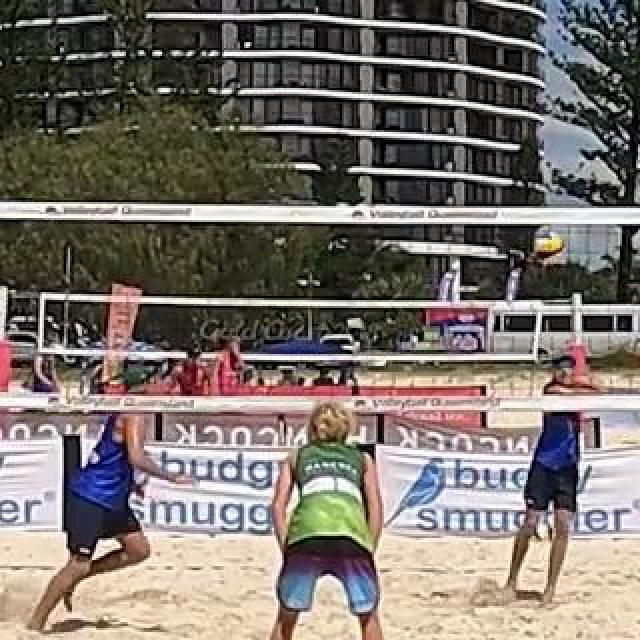volleyball: (534, 231, 564, 261)
